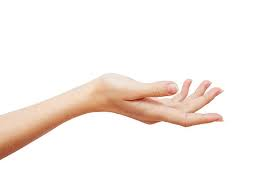hand: (78, 42, 237, 140)
